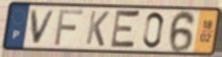0: (142, 11, 165, 49)
6: (167, 8, 198, 54)
E: (108, 8, 142, 52)
F: (53, 8, 85, 47)
K: (84, 9, 111, 48)
V: (30, 9, 58, 46)
